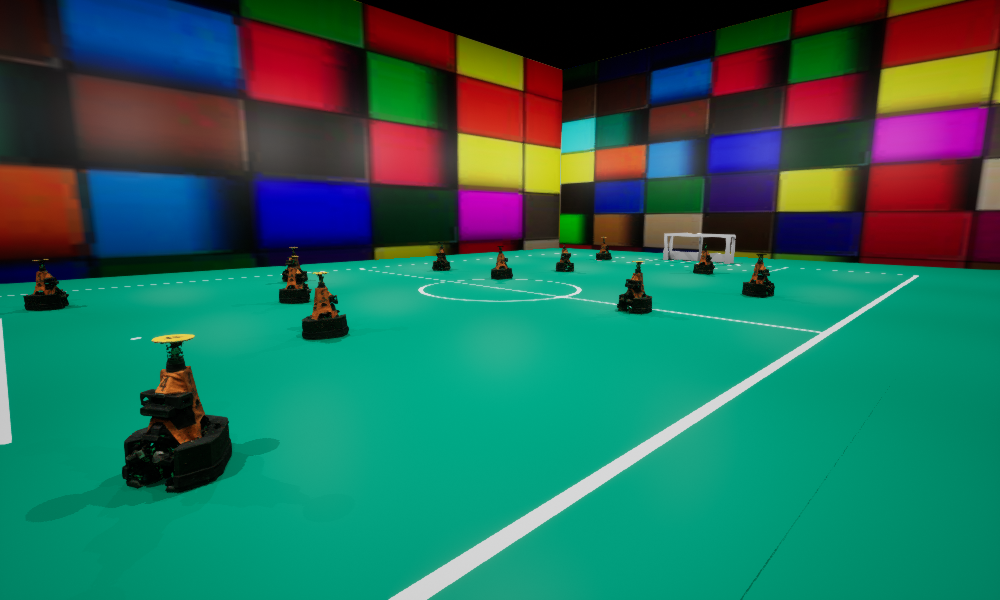0 orange robot TechUnited: (122, 334, 231, 491), (302, 272, 348, 339), (23, 259, 68, 310), (617, 261, 651, 313), (279, 256, 311, 303), (742, 254, 774, 297), (282, 247, 307, 281), (491, 246, 512, 279), (693, 243, 714, 274), (432, 242, 450, 270), (556, 243, 573, 271), (596, 237, 611, 259)
